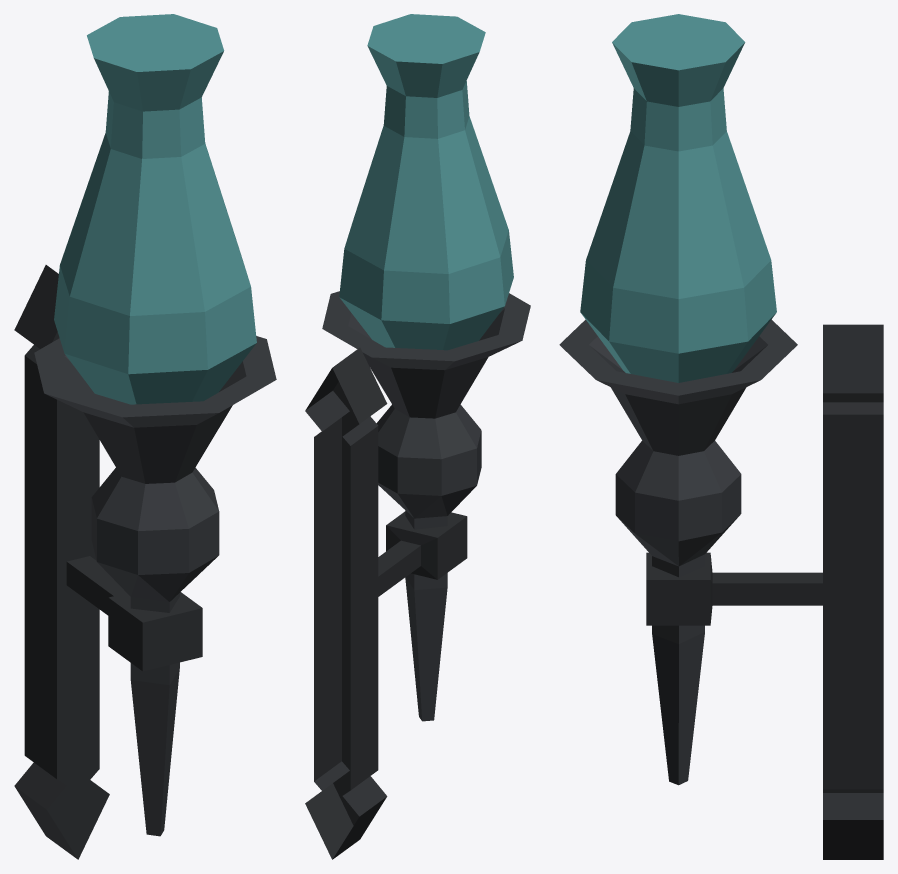
File: prop_torch.gltf
3 renders of one model, left to right at view 1: azimuth 30°, elevation 25°; view 2: azimuth 150°, elevation 25°; view 3: azimuth 270°, elevation 25°, orthographic. The views are drawn at different scales.
Visible parts, largest first — view 1: prop_torch; view 2: prop_torch; view 3: prop_torch.
Boxes of the visible parts, x1,y1,x2,y2 form: prop_torch: [14, 14, 276, 859]; prop_torch: [305, 14, 530, 859]; prop_torch: [559, 14, 883, 859].
Bounding box in the file's own units: 0.2397 × 0.8979 × 0.3231.
Materials: 1 (1 with a texture image).
